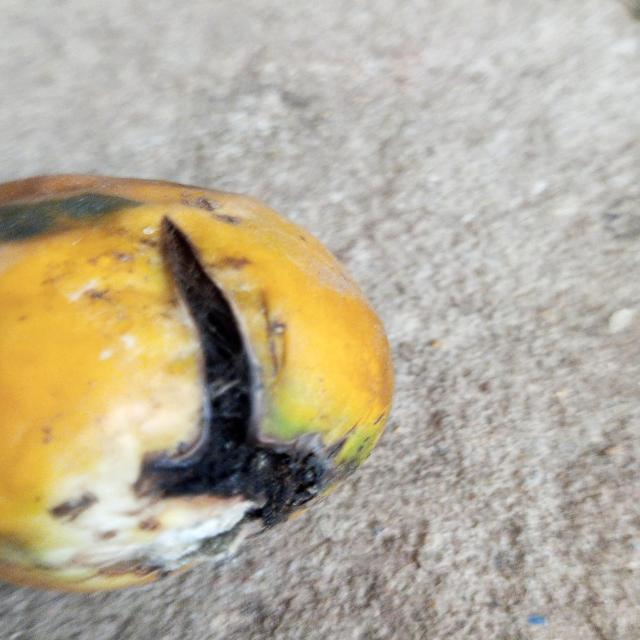damaged: (0, 174, 396, 596)
